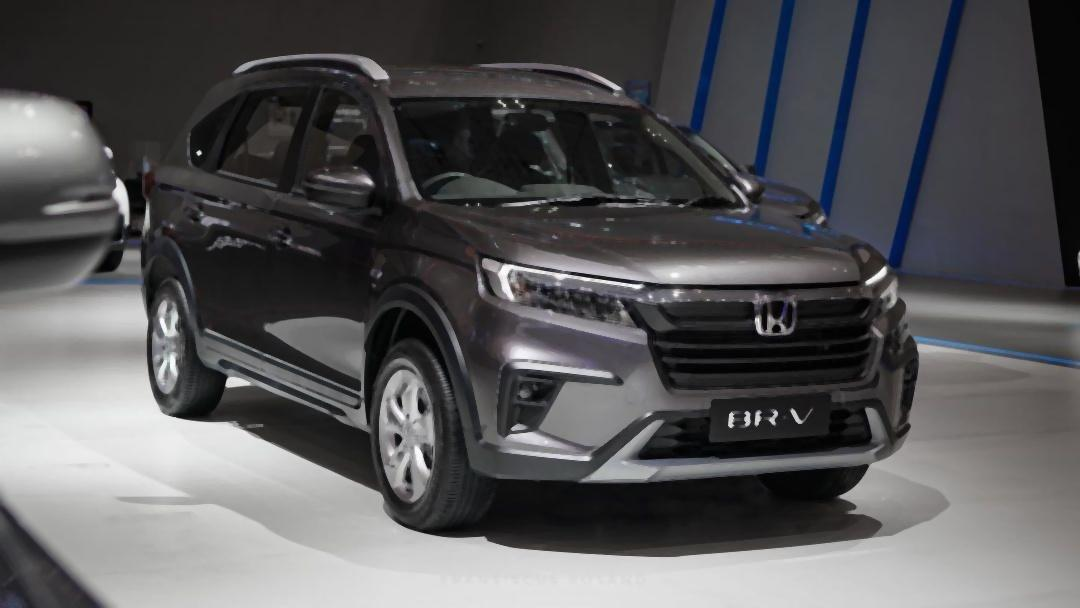Car hood: (431, 198, 892, 289)
Driver-s door - -F-R-: (266, 72, 369, 409)
Fender - -F-R-: (357, 173, 487, 408)
Fender - -R-R-: (146, 162, 180, 261)
Front bumper: (433, 289, 924, 493)
Headlight - -L-: (859, 260, 909, 320)
Headlight - -R-: (470, 249, 650, 332)
Passenger-s door - -R-R-: (176, 72, 309, 410)
Rear bumper: (121, 232, 159, 321)
Rear light - -R-: (130, 165, 166, 205)
Side bumper - -R-: (187, 321, 375, 437)
Side mirror - -L-: (711, 162, 774, 204)
Side mirror - -R-: (293, 158, 382, 216)
